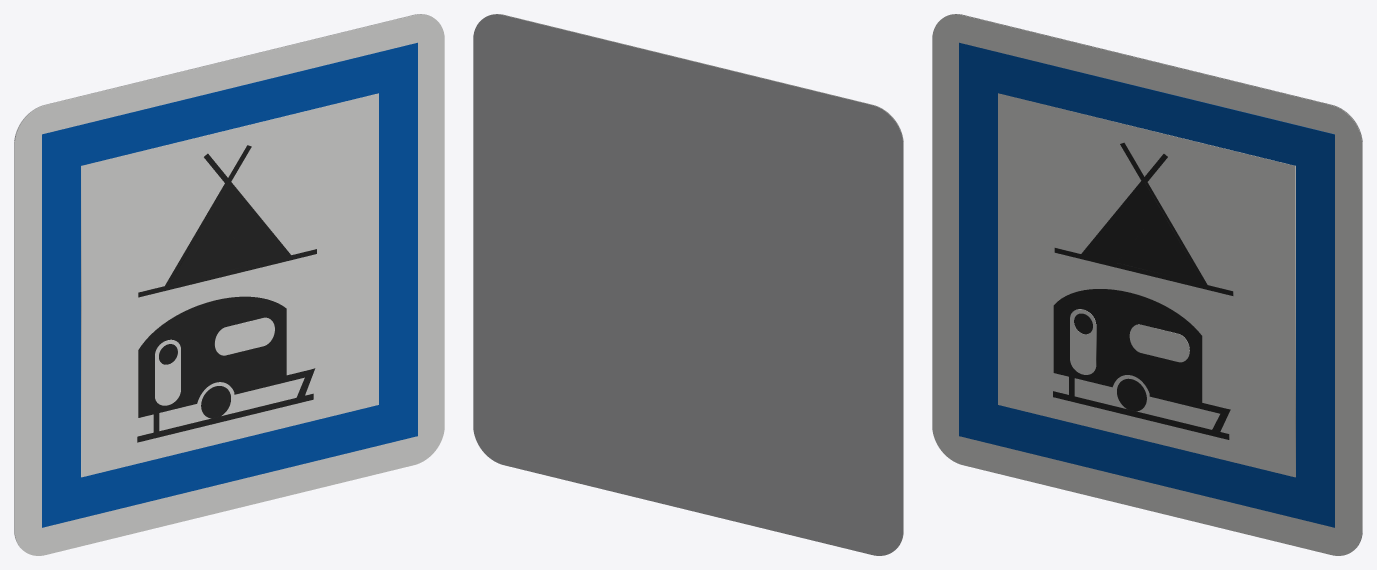
3 renders of one model, left to right at view 1: azimuth 30°, elevation 25°; view 2: azimuth 150°, elevation 25°; view 3: azimuth 330°, elevation 25°, orthographic.
Visible parts, largest first — view 1: CE4c_p02, CE4c_p01, CE4c_p00, CE4c_p07, CE4c_p05, CE4c_p04, CE4c_p09, CE4c_p08, CE4c_p03, CE4c_dos, CE4c_p06; view 2: CE4c_dos, CE4c_p00; view 3: CE4c_p02, CE4c_p01, CE4c_p00, CE4c_p07, CE4c_p05, CE4c_p04, CE4c_p09, CE4c_p08, CE4c_p03, CE4c_dos, CE4c_p06.
Boxes of the visible parts, <box> form: CE4c_p02: <box>81,93,378,477</box>; CE4c_p01: <box>42,42,417,527</box>; CE4c_p00: <box>14,14,444,555</box>; CE4c_p07: <box>137,296,315,442</box>; CE4c_p05: <box>168,183,289,286</box>; CE4c_p04: <box>138,145,316,297</box>; CE4c_p09: <box>214,317,274,355</box>; CE4c_p08: <box>155,339,180,405</box>; CE4c_p03: <box>201,230,254,277</box>; CE4c_dos: <box>14,14,431,547</box>; CE4c_p06: <box>201,386,230,418</box>; CE4c_dos: <box>473,14,903,555</box>; CE4c_p00: <box>486,14,903,547</box>; CE4c_p02: <box>998,93,1295,477</box>; CE4c_p01: <box>959,42,1334,527</box>; CE4c_p00: <box>932,14,1362,555</box>; CE4c_p07: <box>1053,289,1230,439</box>; CE4c_p05: <box>1084,182,1205,286</box>; CE4c_p04: <box>1054,142,1233,295</box>; CE4c_p09: <box>1129,324,1189,362</box>; CE4c_p08: <box>1070,309,1096,374</box>; CE4c_p03: <box>1117,229,1170,275</box>; CE4c_dos: <box>945,14,1362,547</box>; CE4c_p06: <box>1117,378,1146,411</box>.
Size of the model in its own units: 0.7 by 0.6999 by 0.0055.
